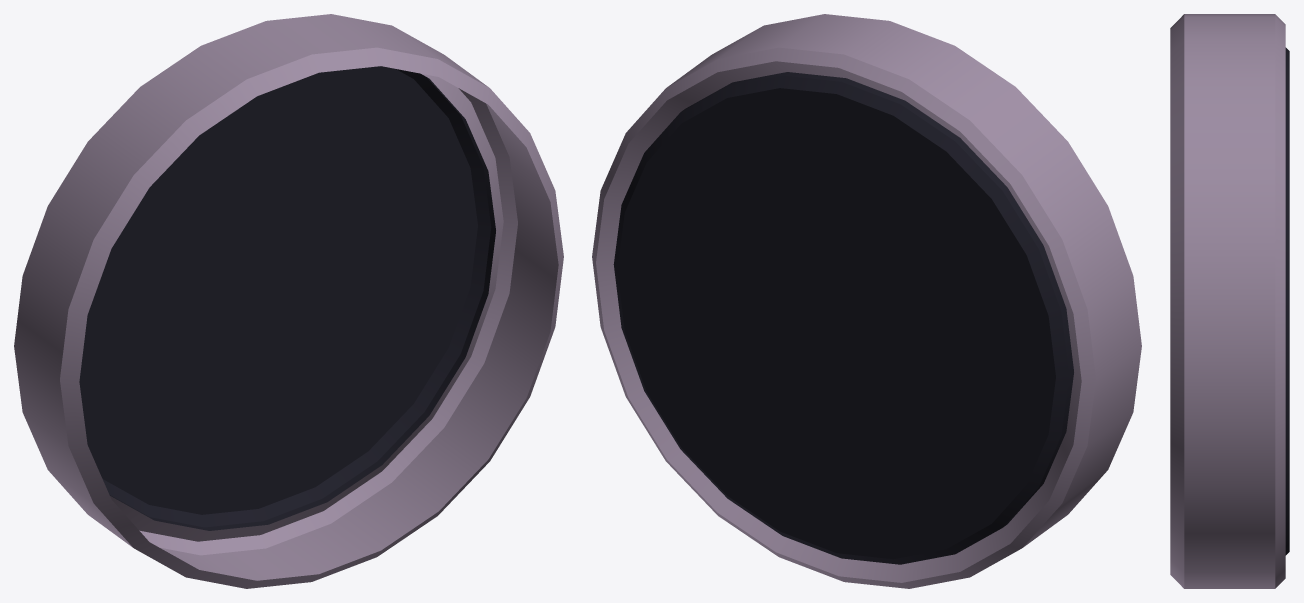
File: note.fbx
3 renders of one model, left to right at view 1: azimuth 30°, elevation 25°; view 2: azimuth 150°, elevation 25°; view 3: azimuth 270°, elevation 25°, orthographic.
Parts seen in each view (by area): view 1: 03-note; view 2: 03-note; view 3: 03-note.
Boxes of the visible parts, x1,y1,x2,y2 form: 03-note: (14, 14, 563, 588); 03-note: (592, 14, 1141, 588); 03-note: (1170, 14, 1289, 588).
Bounding box in the file's own units: 11032 × 11032 × 2286.
